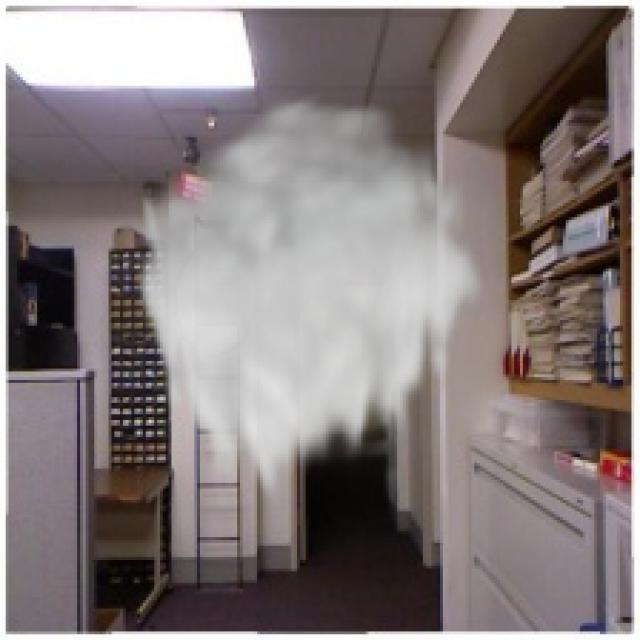smoke: (134, 89, 489, 514)
